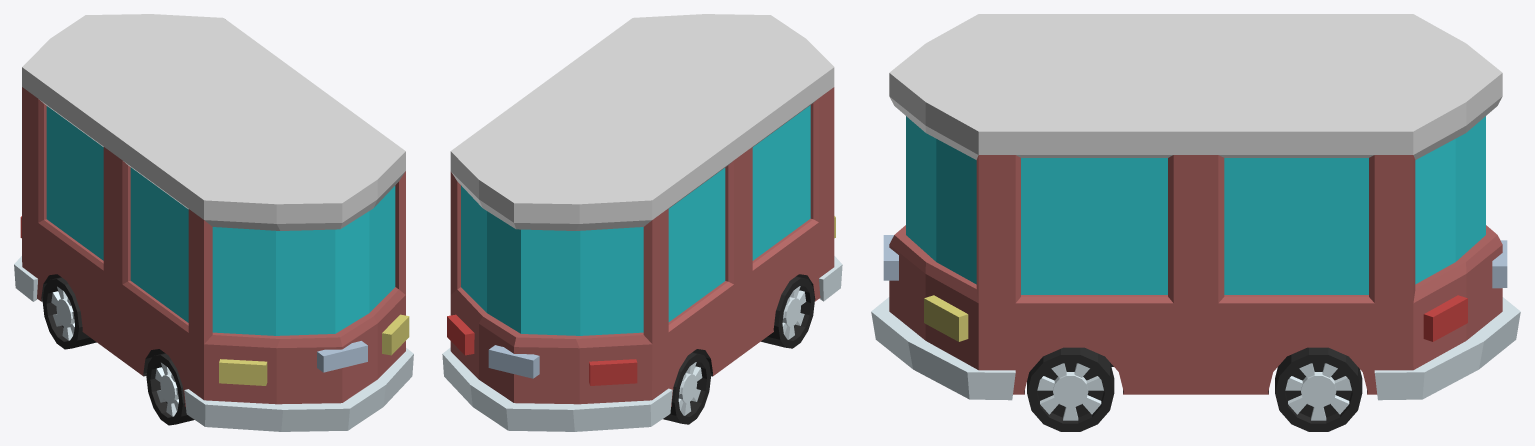
The model's file is Car_03_v1.fbx.
3 renders of one model, left to right at view 1: azimuth 30°, elevation 25°; view 2: azimuth 150°, elevation 25°; view 3: azimuth 270°, elevation 25°, orthographic. The views are drawn at different scales.
Visible parts, largest first — view 1: Van, Tires, Van.001; view 2: Van, Tires, Van.001; view 3: Van, Tires, Van.001.
Part boxes in pixels (bbox=[...]): Van: bbox=[14, 14, 413, 431]; Tires: bbox=[42, 277, 194, 425]; Van.001: bbox=[20, 216, 409, 385]; Van: bbox=[442, 14, 842, 431]; Tires: bbox=[663, 276, 814, 424]; Van.001: bbox=[447, 216, 835, 385]; Van: bbox=[871, 14, 1520, 400]; Tires: bbox=[1027, 347, 1362, 431]; Van.001: bbox=[924, 295, 1467, 341].
Size of the model in its own units: 413 by 469 by 925.
